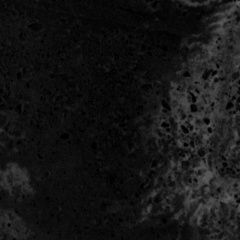Vegetation: (172, 77, 238, 226), (201, 16, 240, 81), (3, 167, 32, 195)
